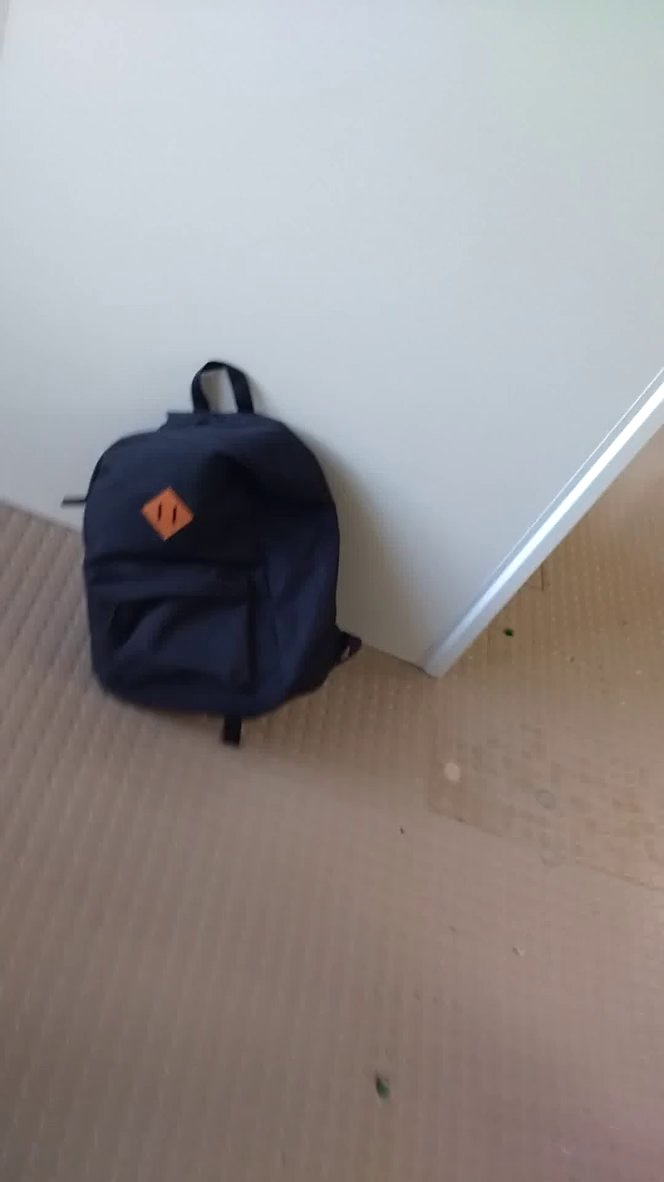bag: (53, 350, 376, 766)
